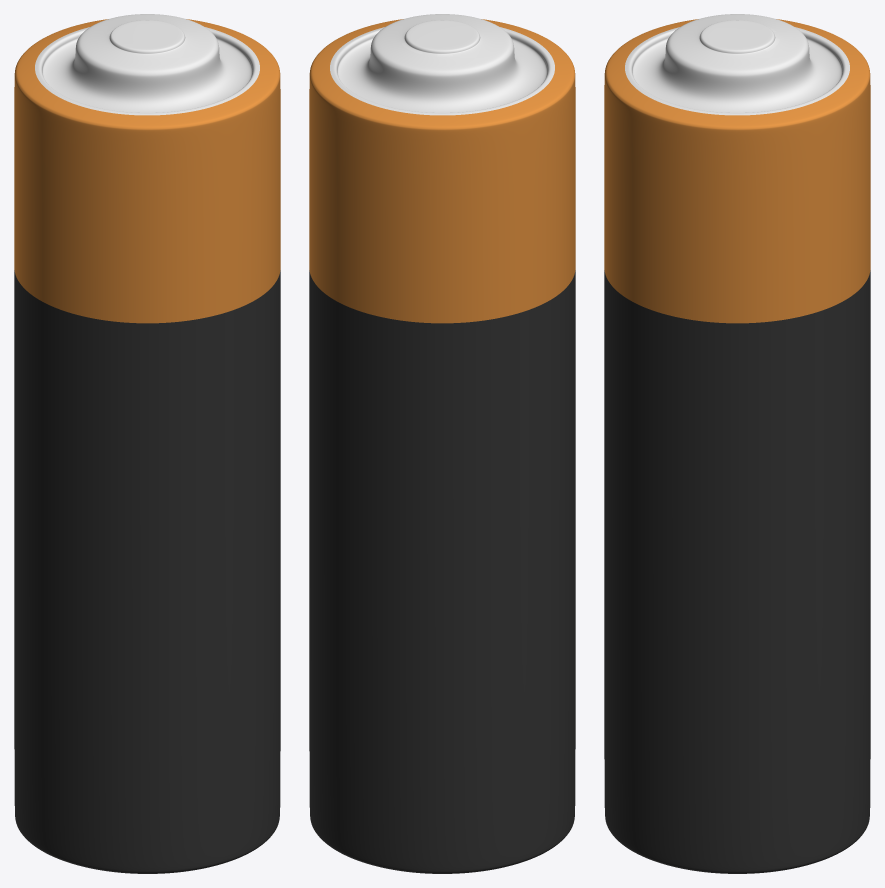
File: Pila.fbx
3 renders of one model, left to right at view 1: azimuth 30°, elevation 25°; view 2: azimuth 150°, elevation 25°; view 3: azimuth 270°, elevation 25°, orthographic.
Parts seen in each view (by area): view 1: Cylinder.003; view 2: Cylinder.003; view 3: Cylinder.003.
Boxes of the visible parts, left/top/right/bottom form: Cylinder.003: left=14, top=14, right=280, bottom=873; Cylinder.003: left=309, top=14, right=575, bottom=873; Cylinder.003: left=604, top=14, right=870, bottom=873.
Size of the model in its own units: 1.95 by 6.42 by 1.95.
